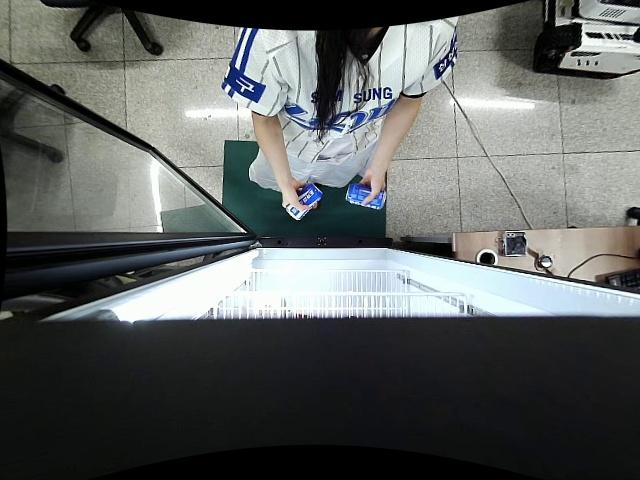00_hand: (357, 169, 387, 208), (280, 177, 311, 213)
13_pocariSweat: (285, 184, 323, 220), (346, 182, 387, 211)
